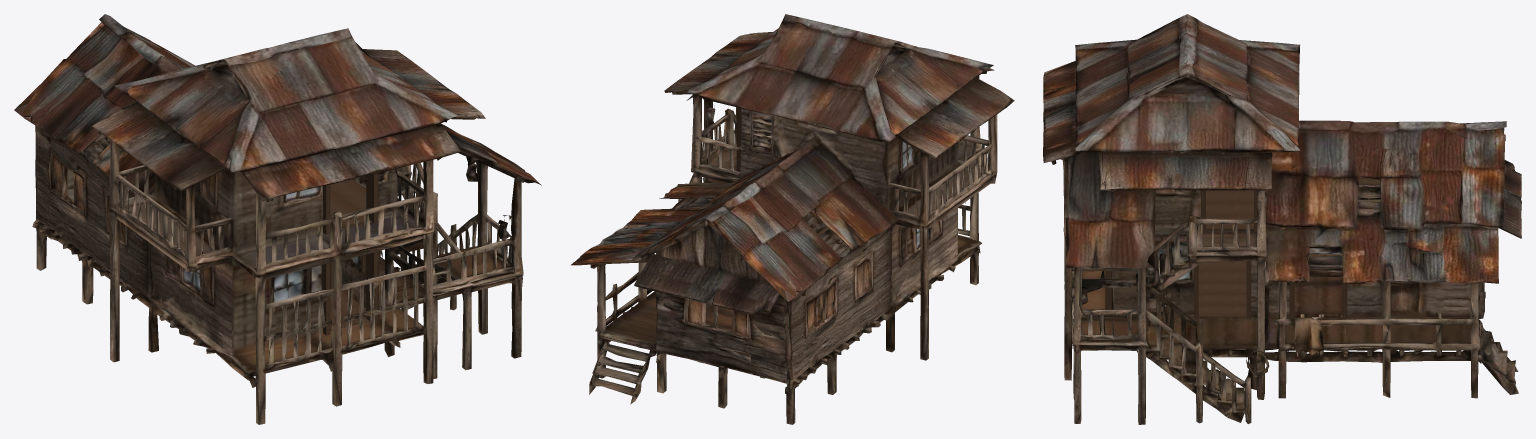
File: rusty-house.zfix-v14.lod0.glb
3 views of the same model, side by side, from view 1: azimuth 30°, elevation 25°; view 2: azimuth 150°, elevation 25°; view 3: azimuth 270°, elevation 25° (orthographic). The views are drawn at different scales.
Visible parts, largest first — view 1: Object_4; view 2: Object_4; view 3: Object_4.
Boxes of the visible parts, x1,y1,x2,y2 form: Object_4: [14, 14, 541, 424]; Object_4: [571, 14, 1014, 424]; Object_4: [1043, 14, 1521, 424].
Bounding box in the file's own units: 7.95 × 6.92 × 10.
1 material, 1 textured.
